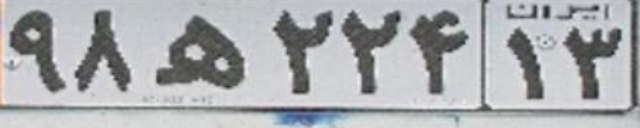1: (503, 26, 543, 99)
2: (337, 9, 400, 94), (270, 9, 331, 94)
3: (564, 26, 623, 99)
4: (409, 8, 470, 94)
8: (73, 8, 131, 91)
9: (5, 9, 62, 91)
he: (154, 14, 245, 89)
